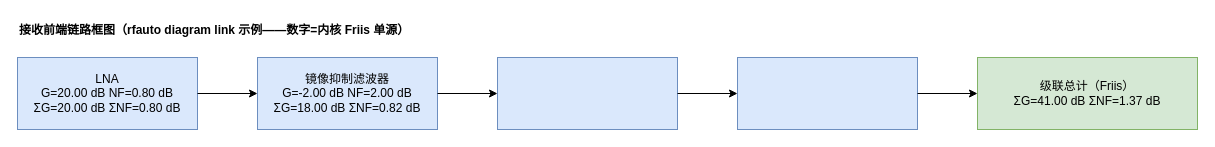
This 1215x147 diagram has some shape labels left out. Here are the shapes that lost their labels. From the top down, the box of each, then its label:
(496, 56, 678, 130): 混频器 G=-7.00 dB NF=7.00 dB ΣG=11.00 dB ΣNF=1.04 dB
(736, 56, 918, 130): 中频放大器 G=30.00 dB NF=3.50 dB ΣG=41.00 dB ΣNF=1.37 dB
